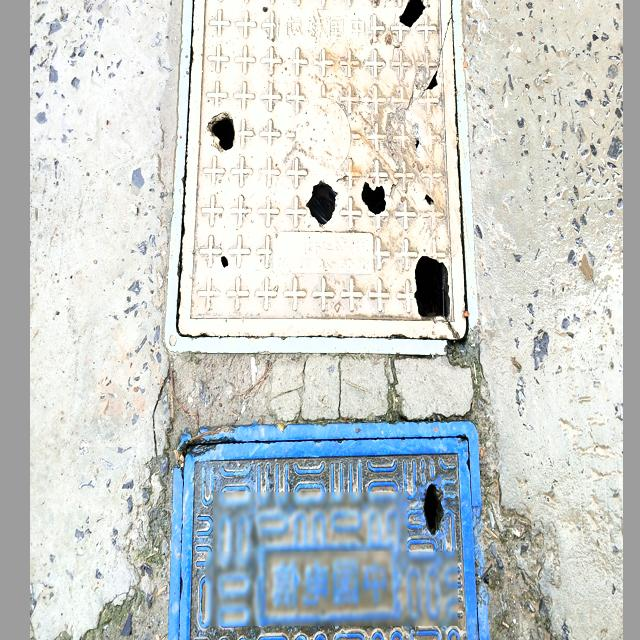broke: (165, 0, 473, 360)
